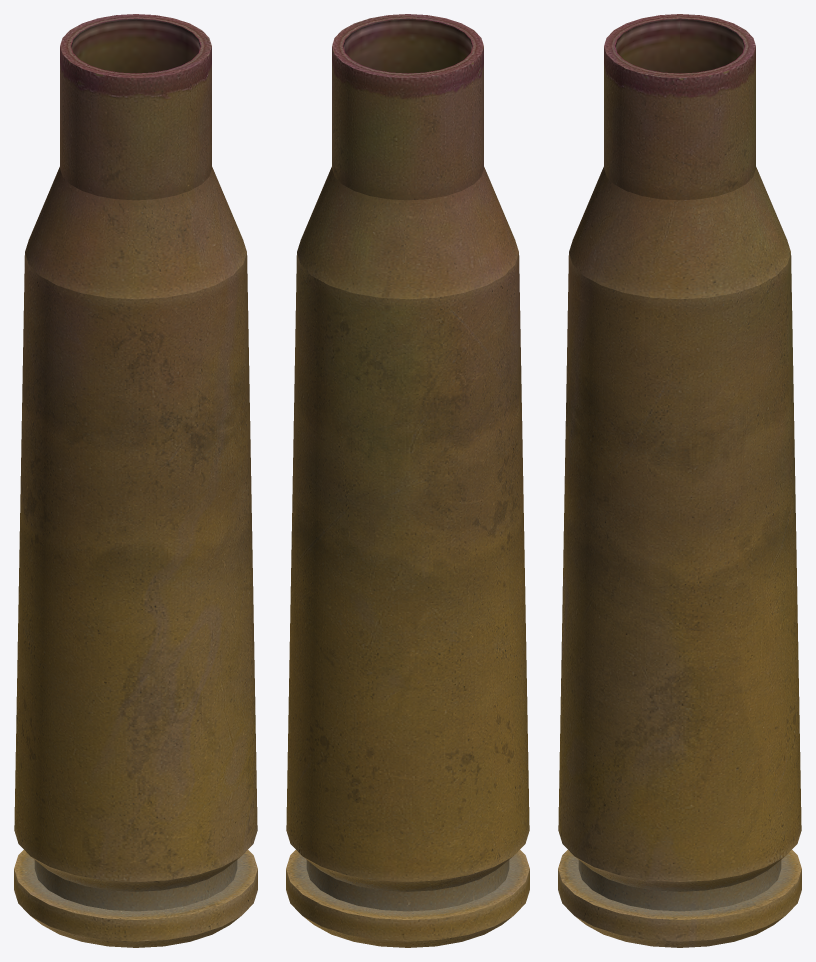
File: 5.45x39mm PS gs(used).glb
The picture shows the model from 3 angles, left to right: view 1: azimuth 30°, elevation 25°; view 2: azimuth 150°, elevation 25°; view 3: azimuth 270°, elevation 25°; orthographic projection.
Parts seen in each view (by area): view 1: 5_45_39mm_bullet.002; view 2: 5_45_39mm_bullet.002; view 3: 5_45_39mm_bullet.002.
Part boxes in pixels (<box>): 5_45_39mm_bullet.002: <box>14,14,257,947</box>; 5_45_39mm_bullet.002: <box>286,14,529,947</box>; 5_45_39mm_bullet.002: <box>558,14,801,947</box>.
Bounding box in the file's own units: 0.0246 × 0.0954 × 0.0246.
1 material, 1 textured.
